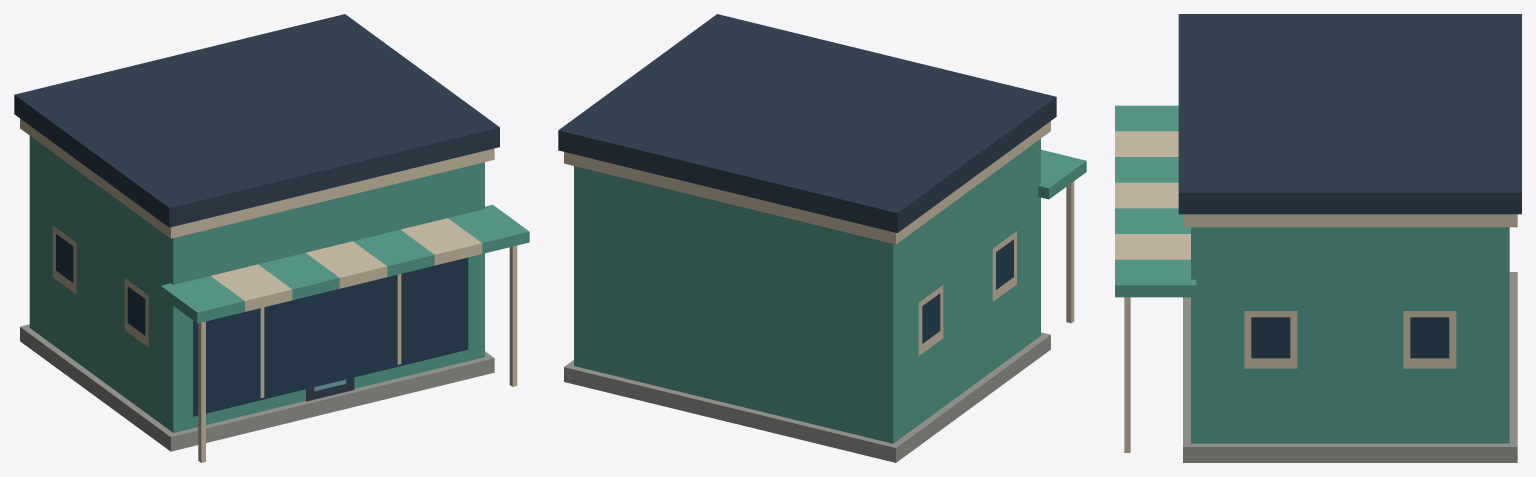
The model's file is shop-mint.glb.
The picture shows the model from 3 angles, left to right: view 1: azimuth 30°, elevation 25°; view 2: azimuth 150°, elevation 25°; view 3: azimuth 270°, elevation 25°; orthographic projection. The views are drawn at different scales.
Parts seen in each view (by area): view 1: asset_root; view 2: asset_root; view 3: asset_root.
Boxes of the visible parts, <box> form: asset_root: <box>14,14,529,462</box>; asset_root: <box>558,14,1086,462</box>; asset_root: <box>1115,14,1521,462</box>.
Bounding box in the file's own units: 4.8 × 3.39 × 4.6.
